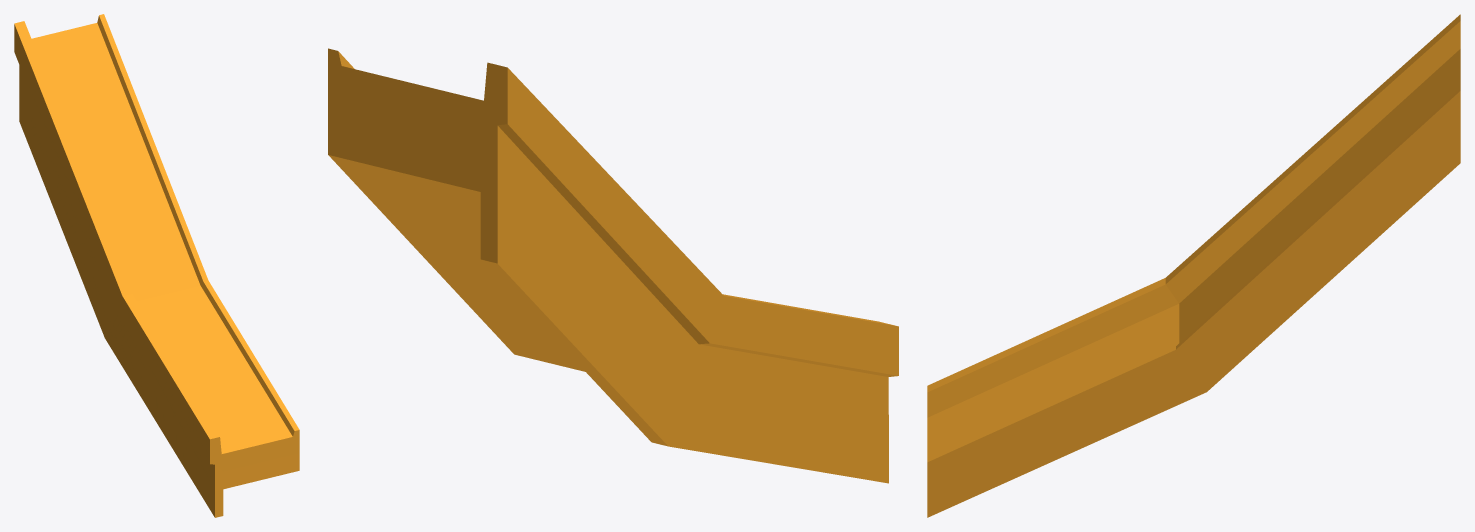
File: SM_Roof_Metal_Moderate_Regular_2m_Front.fbx
The picture shows the model from 3 angles, left to right: view 1: azimuth 30°, elevation 25°; view 2: azimuth 150°, elevation 25°; view 3: azimuth 270°, elevation 25°; orthographic projection. The views are drawn at different scales.
Parts seen in each view (by area): view 1: roof-metal-moderate-regular-2m-front; view 2: roof-metal-moderate-regular-2m-front; view 3: roof-metal-moderate-regular-2m-front.
Part boxes in pixels (box(x1,y1,x2,y2)): roof-metal-moderate-regular-2m-front: box(14, 14, 299, 517); roof-metal-moderate-regular-2m-front: box(328, 48, 898, 483); roof-metal-moderate-regular-2m-front: box(927, 14, 1460, 517).
Bounding box in the file's own units: 0.53 × 1.99 × 2.
